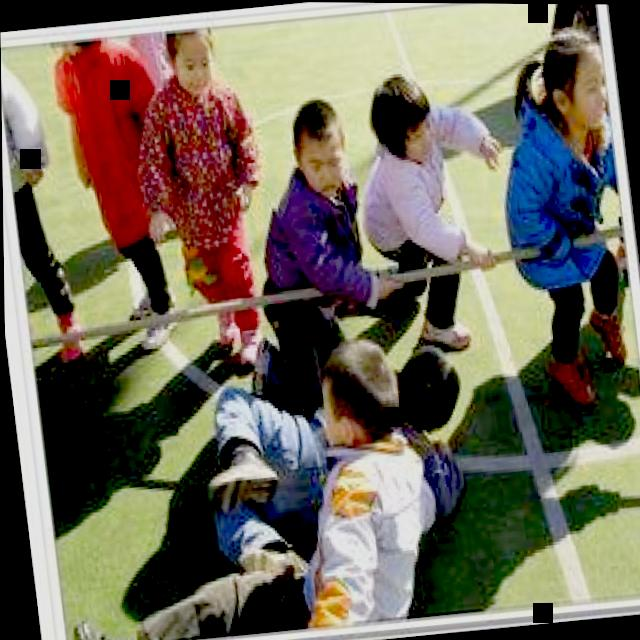Fall-Detected: (40, 327, 458, 640)
